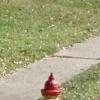Hydrant: (37, 68, 77, 100)
